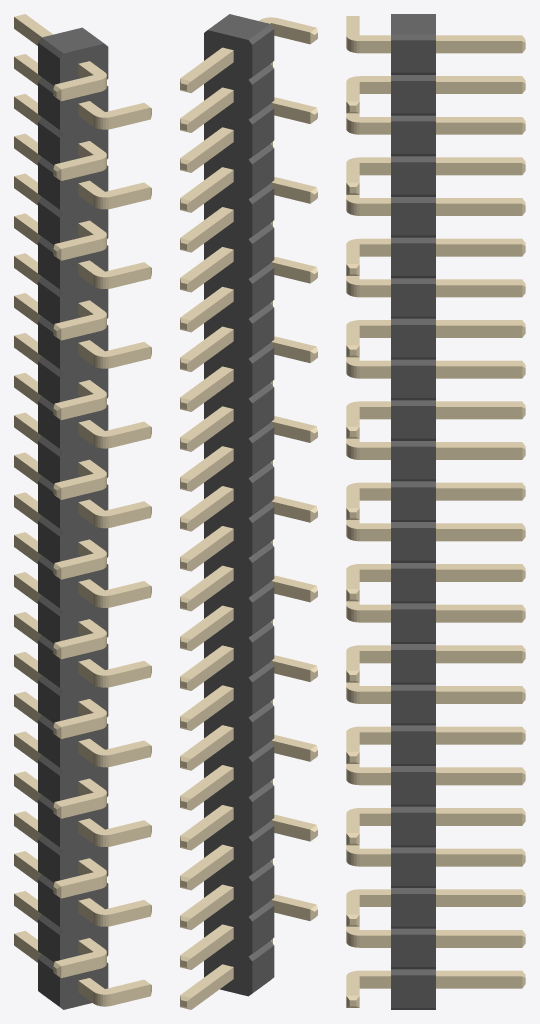
File: PinHeader_1x24_P1.00mm_Vertical_SMD_Pin1Right.glb
The picture shows the model from 3 angles, left to right: view 1: azimuth 30°, elevation 25°; view 2: azimuth 150°, elevation 25°; view 3: azimuth 270°, elevation 25°; orthographic projection. The views are drawn at different scales.
Parts seen in each view (by area): view 1: Shape_IndexedFaceSet.003, Shape_IndexedFaceSet.001, Shape_IndexedFaceSet.013, Shape_IndexedFaceSet.085, Shape_IndexedFaceSet.097, Shape_IndexedFaceSet.025, Shape_IndexedFaceSet.061, Shape_IndexedFaceSet.073, Shape_IndexedFaceSet.145, Shape_IndexedFaceSet.037, Shape_IndexedFaceSet.049, Shape_IndexedFaceSet.109 (+62 smaller); view 2: Shape_IndexedFaceSet.004, Shape_IndexedFaceSet.001, Shape_IndexedFaceSet.007, Shape_IndexedFaceSet.037, Shape_IndexedFaceSet.067, Shape_IndexedFaceSet.079, Shape_IndexedFaceSet.109, Shape_IndexedFaceSet.121, Shape_IndexedFaceSet.013, Shape_IndexedFaceSet.025, Shape_IndexedFaceSet.031, Shape_IndexedFaceSet.049 (+75 smaller); view 3: Shape_IndexedFaceSet.064, Shape_IndexedFaceSet.082, Shape_IndexedFaceSet.100, Shape_IndexedFaceSet.118, Shape_IndexedFaceSet.002, Shape_IndexedFaceSet.010, Shape_IndexedFaceSet.016, Shape_IndexedFaceSet.022, Shape_IndexedFaceSet.028, Shape_IndexedFaceSet.034, Shape_IndexedFaceSet.040, Shape_IndexedFaceSet.046 (+74 smaller).
Boxes of the visible parts, left/top/right/bottom form: Shape_IndexedFaceSet.003: left=60, top=43, right=108, bottom=1009; Shape_IndexedFaceSet.001: left=42, top=27, right=103, bottom=53; Shape_IndexedFaceSet.013: left=38, top=82, right=59, bottom=129; Shape_IndexedFaceSet.085: left=38, top=561, right=59, bottom=607; Shape_IndexedFaceSet.097: left=38, top=640, right=59, bottom=687; Shape_IndexedFaceSet.025: left=38, top=162, right=59, bottom=209; Shape_IndexedFaceSet.061: left=38, top=401, right=59, bottom=448; Shape_IndexedFaceSet.073: left=38, top=481, right=59, bottom=528; Shape_IndexedFaceSet.145: left=38, top=959, right=59, bottom=1006; Shape_IndexedFaceSet.037: left=38, top=242, right=59, bottom=289; Shape_IndexedFaceSet.049: left=38, top=321, right=59, bottom=368; Shape_IndexedFaceSet.109: left=38, top=720, right=59, bottom=767; Shape_IndexedFaceSet.004: left=204, top=30, right=252, bottom=996; Shape_IndexedFaceSet.001: left=208, top=14, right=269, bottom=39; Shape_IndexedFaceSet.007: left=252, top=29, right=274, bottom=76; Shape_IndexedFaceSet.037: left=252, top=228, right=274, bottom=275; Shape_IndexedFaceSet.067: left=252, top=427, right=274, bottom=474; Shape_IndexedFaceSet.079: left=252, top=507, right=274, bottom=554; Shape_IndexedFaceSet.109: left=252, top=706, right=274, bottom=753; Shape_IndexedFaceSet.121: left=252, top=786, right=274, bottom=833; Shape_IndexedFaceSet.013: left=252, top=69, right=274, bottom=116; Shape_IndexedFaceSet.025: left=252, top=148, right=274, bottom=195; Shape_IndexedFaceSet.031: left=252, top=188, right=274, bottom=235; Shape_IndexedFaceSet.049: left=252, top=308, right=274, bottom=355; Shape_IndexedFaceSet.064: left=391, top=446, right=435, bottom=479; Shape_IndexedFaceSet.082: left=391, top=568, right=435, bottom=601; Shape_IndexedFaceSet.100: left=391, top=690, right=435, bottom=723; Shape_IndexedFaceSet.118: left=391, top=812, right=435, bottom=845; Shape_IndexedFaceSet.002: left=391, top=40, right=435, bottom=72; Shape_IndexedFaceSet.010: left=391, top=81, right=435, bottom=113; Shape_IndexedFaceSet.016: left=391, top=121, right=435, bottom=153; Shape_IndexedFaceSet.022: left=391, top=162, right=435, bottom=194; Shape_IndexedFaceSet.028: left=391, top=203, right=435, bottom=235; Shape_IndexedFaceSet.034: left=391, top=243, right=435, bottom=275; Shape_IndexedFaceSet.040: left=391, top=284, right=435, bottom=316; Shape_IndexedFaceSet.046: left=391, top=325, right=435, bottom=357.
Bounding box in the file's own units: 0.984 × 9.45 × 1.58.
